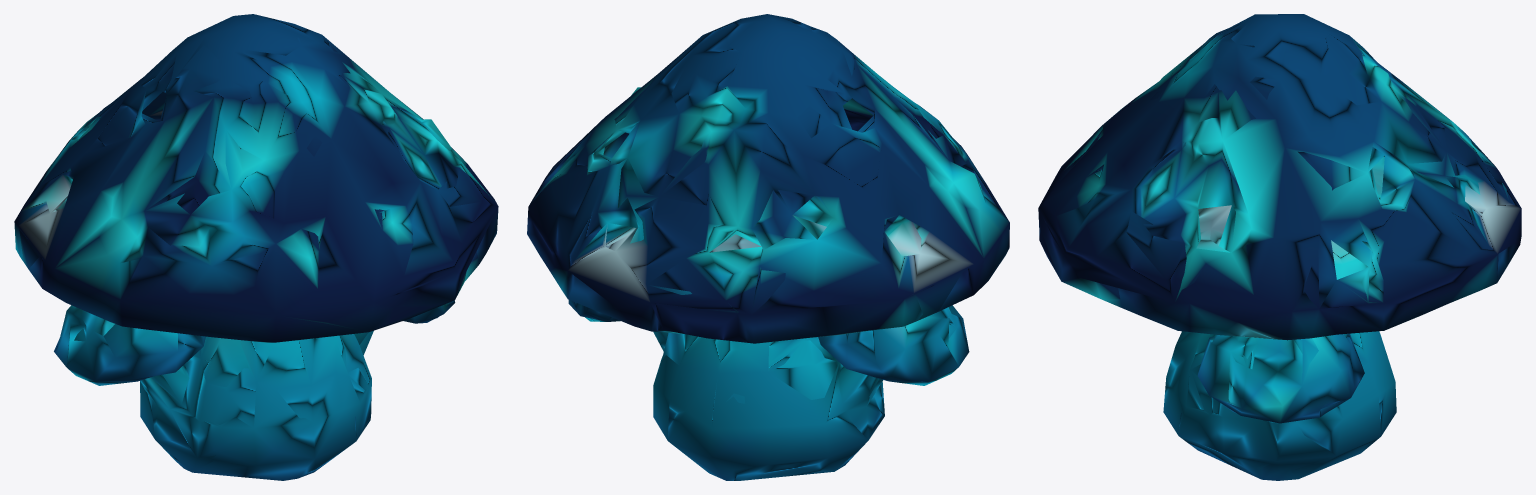
The model's file is gen3d-glowing-mushroom-lod0.glb.
The picture shows the model from 3 angles, left to right: view 1: azimuth 30°, elevation 25°; view 2: azimuth 150°, elevation 25°; view 3: azimuth 270°, elevation 25°; orthographic projection.
Parts seen in each view (by area): view 1: part_0; view 2: part_0; view 3: part_0.
Part boxes in pixels (x1,y1,x2,y2): part_0: (14,14,498,480); part_0: (527,14,1009,480); part_0: (1038,14,1521,480).
Bounding box in the file's own units: 0.9999 × 0.9977 × 1.
